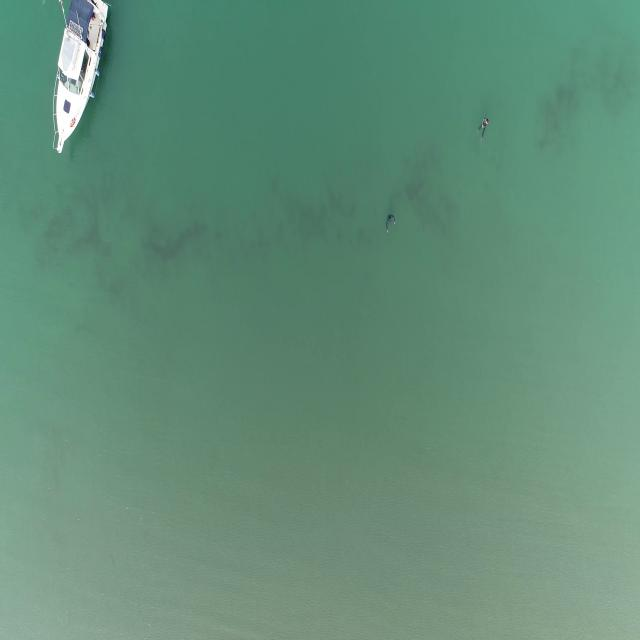boat: (48, 2, 109, 156)
person: (478, 119, 490, 147), (383, 214, 396, 237)
